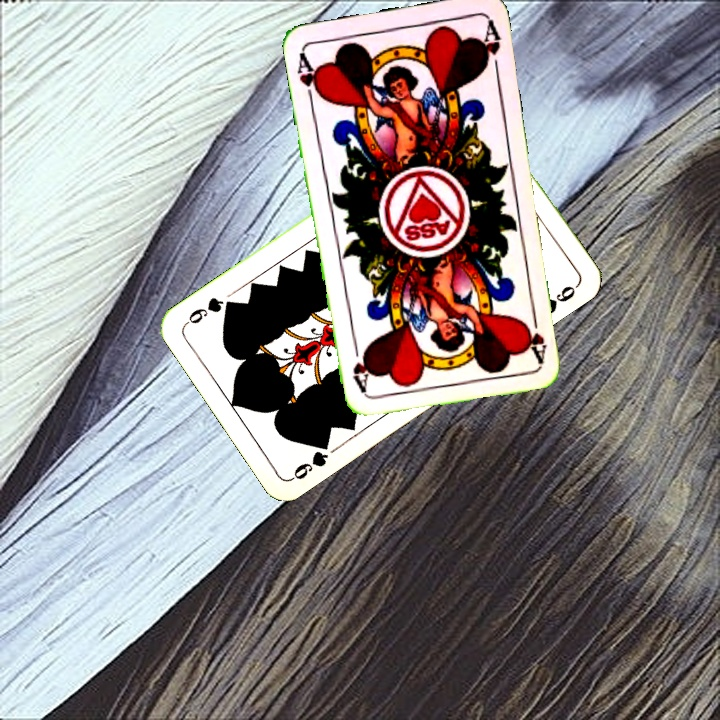G9: (287, 435, 333, 483)
HA: (293, 47, 325, 106), (521, 304, 550, 364)
